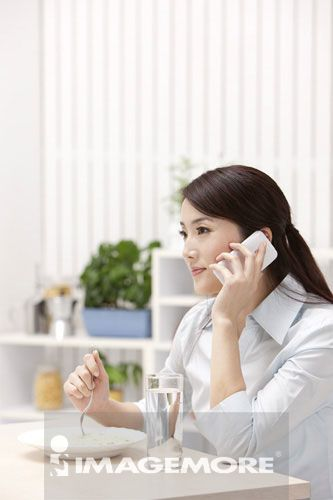phone: (214, 229, 278, 291)
talk: (178, 213, 280, 325)
